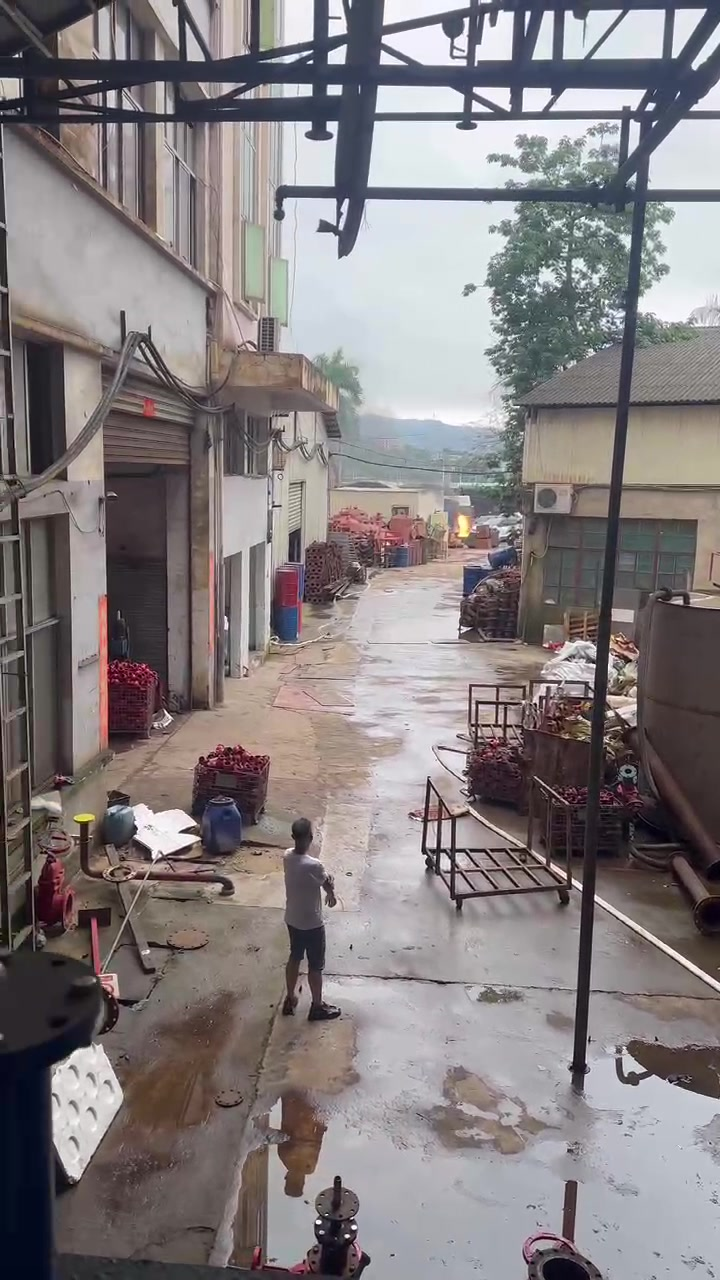fire: (455, 513, 470, 536)
